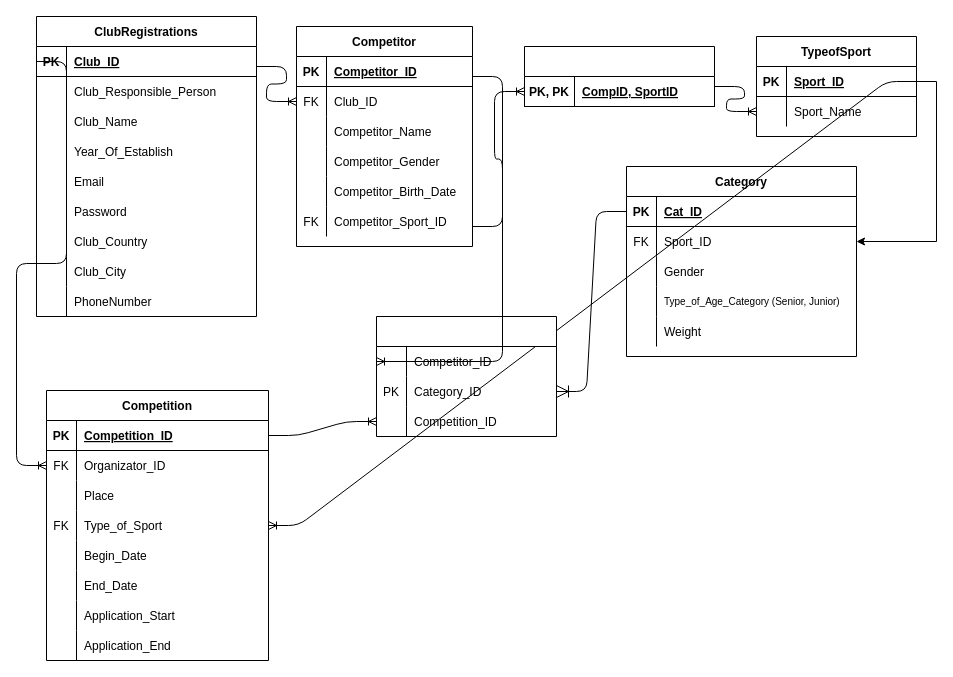
The diagram is 953 pixels wide and 677 high, and some of its shapes have lost their labels. The shapes that lost their labels are listed below. From the top down, each one's box as (x1, y1, x2, y2) in pixels, then its label:
(524, 46, 714, 106): CompetitorSport
(376, 316, 556, 436): Competition_Competitors
